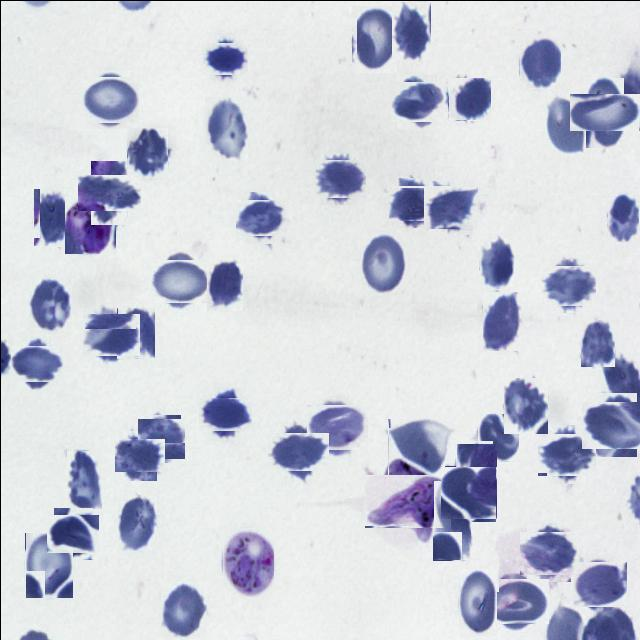difficult: (372, 466, 442, 536)
red blood cell: (387, 418, 444, 475), (24, 532, 72, 598), (350, 5, 396, 73), (489, 572, 544, 628), (584, 397, 640, 452), (359, 232, 406, 295), (577, 84, 631, 138), (442, 466, 496, 520), (311, 399, 364, 454), (203, 96, 247, 162), (152, 255, 205, 308), (83, 72, 135, 125), (543, 95, 586, 156), (458, 568, 496, 637), (160, 581, 206, 637), (523, 527, 573, 578), (432, 493, 470, 560), (574, 558, 624, 608), (272, 426, 322, 476), (540, 428, 590, 478), (85, 309, 135, 359), (83, 167, 133, 217), (27, 276, 70, 334), (503, 377, 547, 433), (426, 182, 474, 232), (544, 261, 592, 309), (482, 291, 521, 350), (391, 1, 430, 59), (118, 494, 158, 550), (518, 37, 560, 90), (32, 188, 70, 246), (126, 127, 168, 179), (393, 78, 440, 124), (50, 510, 96, 556), (66, 450, 101, 508), (14, 340, 58, 386), (476, 413, 518, 461), (454, 442, 496, 490), (317, 156, 362, 200), (116, 307, 154, 358), (203, 392, 247, 436), (238, 195, 282, 239), (138, 416, 182, 460), (478, 235, 513, 289), (206, 258, 242, 310), (447, 77, 490, 120), (391, 181, 434, 223), (118, 434, 160, 476), (580, 319, 614, 366), (606, 193, 638, 242), (204, 38, 244, 77)
trophozoite: (222, 527, 274, 597), (64, 196, 115, 253)
